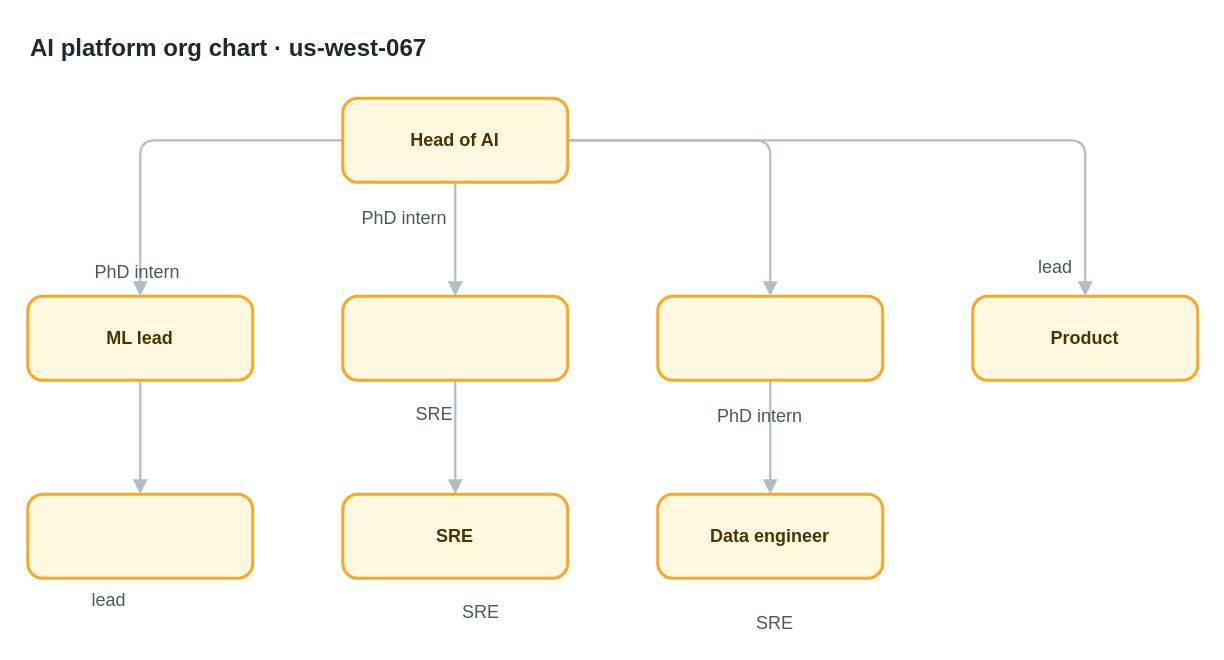
Image size: 1224x660. Some labels were removed from this diagram. Each missing label, with the box of its shape:
Data lead: (656, 294, 884, 381)
Infra lead: (340, 294, 568, 381)
Researcher: (26, 492, 254, 579)
